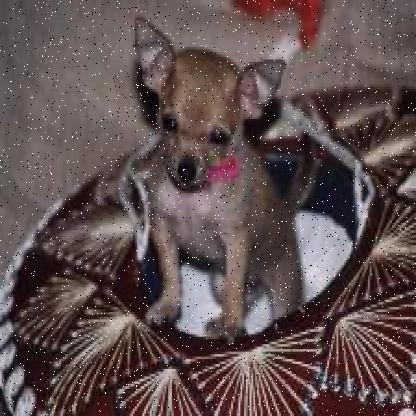dog: (128, 9, 304, 333)
